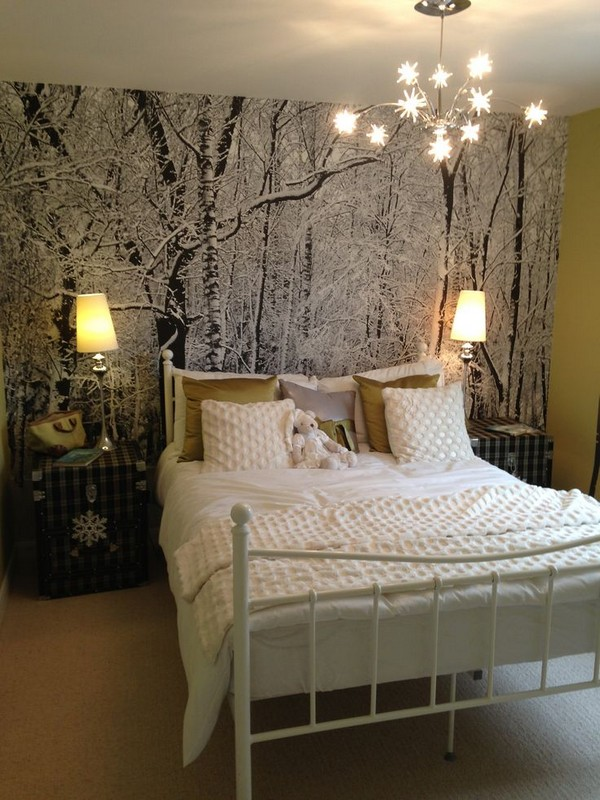bed: (162, 349, 595, 787)
lamp: (75, 291, 126, 451), (448, 285, 494, 426)
stool: (31, 448, 157, 602)
